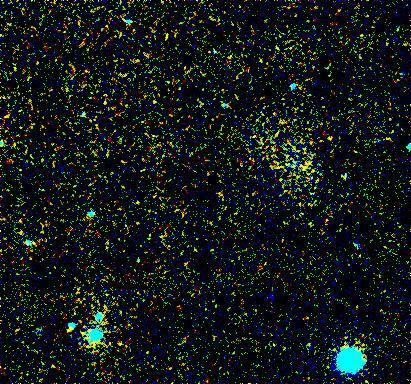star: (56, 315, 86, 345)
